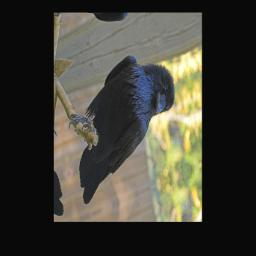Crow: (63, 37, 186, 206)
